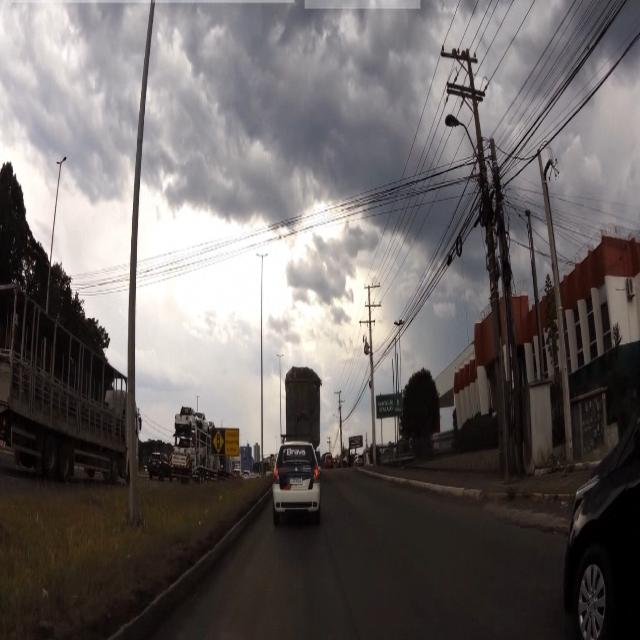A-14: (214, 428, 224, 452)
